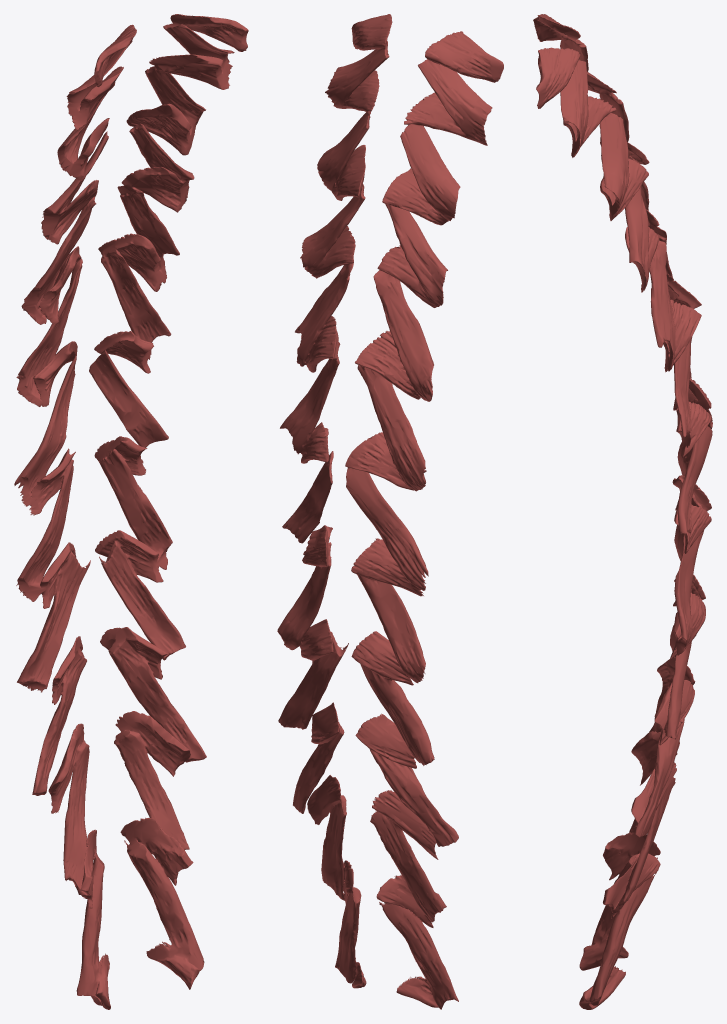
Rendered from FMA23083.glb.
3 views of the same model, side by side, from view 1: azimuth 30°, elevation 25°; view 2: azimuth 150°, elevation 25°; view 3: azimuth 270°, elevation 25° (orthographic). The views are drawn at different scales.
Parts seen in each view (by area): view 1: FMA23083; view 2: FMA23083; view 3: FMA23083.
Part boxes in pixels (<box>): FMA23083: <box>14,14,248,1009</box>; FMA23083: <box>277,14,503,1009</box>; FMA23083: <box>533,14,712,1009</box>.
Bounding box in the file's own units: 0.0542 × 0.2981 × 0.0508.
